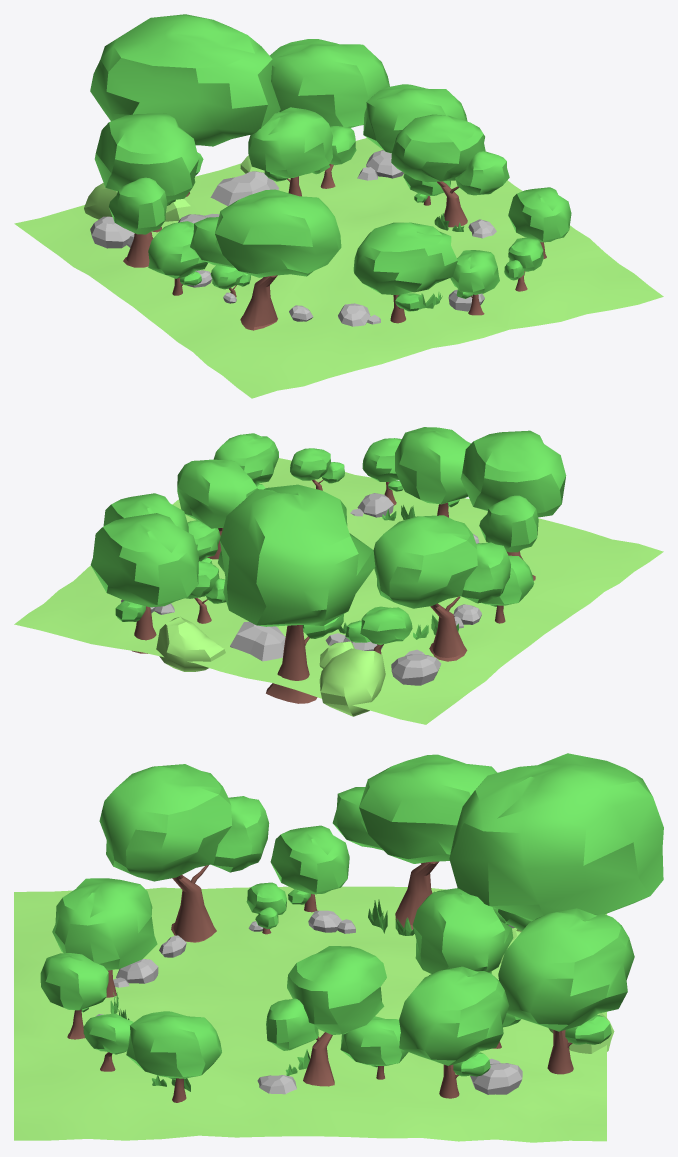
The model's file is Environment.fbx.
3 renders of one model, top to bottom at view 1: azimuth 30°, elevation 25°; view 2: azimuth 150°, elevation 25°; view 3: azimuth 270°, elevation 25°, orthographic. The views are drawn at different scales.
Parts seen in each view (by area): view 1: Plane, Cube.009, Cube.013, Cube.008, Cube.004, Cube.010, Cube.016, Cube.003, Cube.005, Cube.015, Cube.002, Cube.014 (+9 smaller); view 2: Plane, Cube.009, Cube.008, Cube.013, Cube.004, Cube.016, Cube.010, Cube.021, Cube.020, Cube.015, Cube.011, Cube.005 (+9 smaller); view 3: Plane, Cube.009, Cube.013, Cube.004, Cube.008, Cube.010, Cube.005, Cube.016, Cube.003, Cube.015, Cube.002, Cube.014 (+7 smaller).
Part boxes in pixels (box(x1,y1,x2,y2)): Plane: box(14, 138, 663, 398); Cube.009: box(90, 14, 280, 196); Cube.013: box(190, 189, 341, 330); Cube.008: box(94, 113, 198, 267); Cube.004: box(269, 39, 389, 164); Cube.010: box(391, 114, 509, 227); Cube.016: box(353, 222, 457, 323); Cube.003: box(248, 107, 332, 196); Cube.005: box(363, 84, 467, 153); Cube.015: box(508, 187, 571, 258); Cube.002: box(148, 221, 207, 295); Cube.014: box(450, 250, 499, 315); Plane: box(14, 458, 663, 724); Cube.009: box(220, 484, 375, 703); Cube.008: box(373, 515, 510, 661); Cube.013: box(460, 430, 566, 580); Cube.004: box(90, 513, 198, 653); Cube.016: box(395, 427, 470, 517); Cube.010: box(177, 459, 257, 559); Cube.021: box(319, 641, 385, 716); Cube.020: box(156, 617, 225, 671); Cube.015: box(213, 433, 278, 489); Cube.011: box(345, 606, 412, 654); Cube.005: box(103, 493, 188, 532); Plane: box(14, 886, 606, 1142); Cube.009: box(449, 753, 663, 930); Cube.013: box(99, 764, 269, 942); Cube.004: box(498, 908, 634, 1074); Cube.008: box(332, 754, 497, 929); Cube.010: box(266, 946, 386, 1086); Cube.005: box(399, 966, 509, 1098); Cube.016: box(52, 878, 157, 997); Cube.003: box(412, 888, 513, 973); Cube.015: box(126, 1011, 221, 1102); Cube.002: box(270, 825, 349, 912); Cube.014: box(40, 953, 108, 1039).
Bounding box in the file's own units: 1942 × 867 × 2129.
